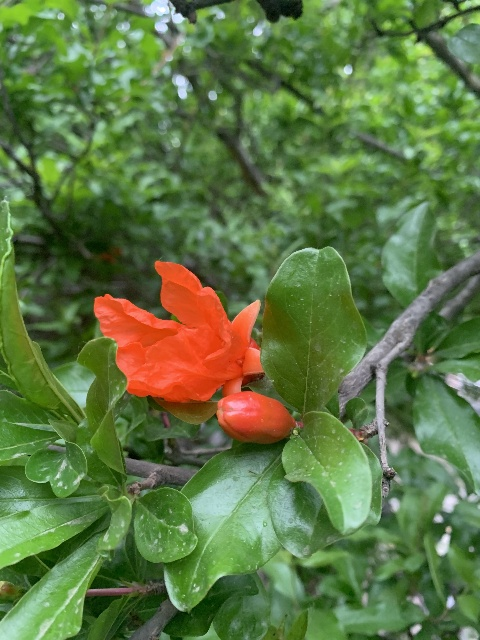bud: (216, 390, 294, 444)
flower: (94, 259, 266, 404)
